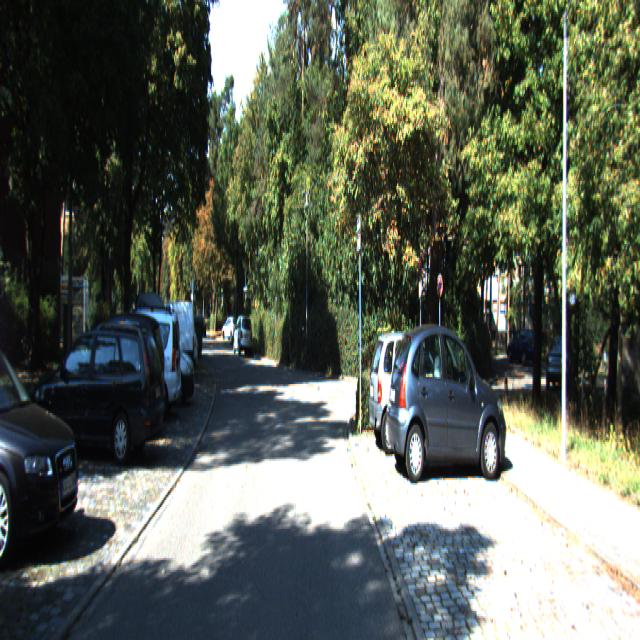Car: (0, 315, 90, 568), (386, 318, 509, 489), (29, 312, 165, 465), (367, 324, 465, 459), (86, 301, 182, 426), (124, 295, 196, 415), (137, 301, 194, 387), (233, 316, 253, 358)
DontCare: (502, 308, 574, 394), (198, 306, 234, 348)
